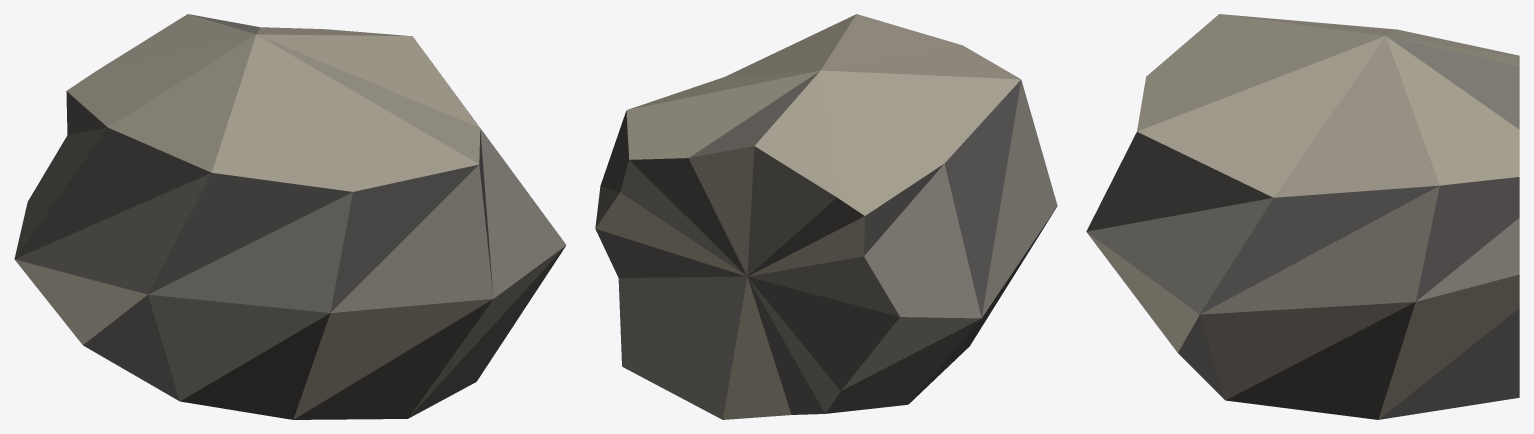
The model's file is RawClosed.fbx.
3 renders of one model, left to right at view 1: azimuth 30°, elevation 25°; view 2: azimuth 150°, elevation 25°; view 3: azimuth 270°, elevation 25°, orthographic. The views are drawn at different scales.
Parts seen in each view (by area): view 1: RawClosed_Mesh; view 2: RawClosed_Mesh; view 3: RawClosed_Mesh.
Boxes of the visible parts, bbox=[...] form: RawClosed_Mesh: bbox=[14, 14, 566, 419]; RawClosed_Mesh: bbox=[595, 14, 1057, 419]; RawClosed_Mesh: bbox=[1086, 14, 1519, 419].
Size of the model in its own units: 0.55 by 0.45 by 0.5.
